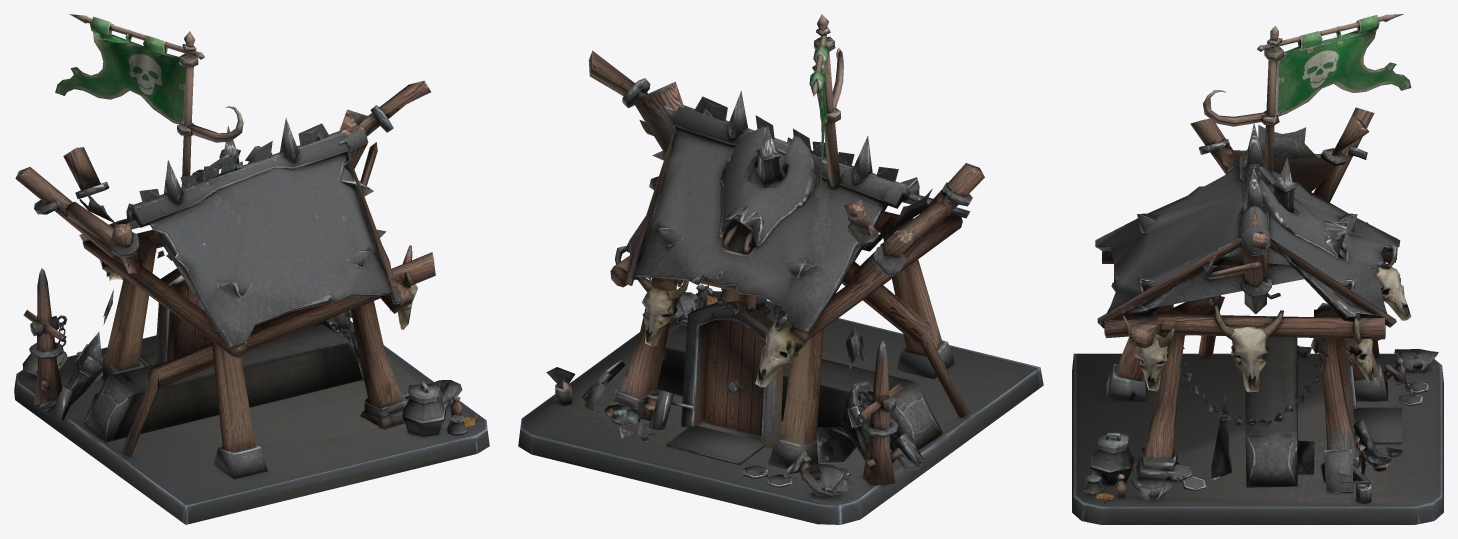
File: wyldkin_denhold.glb
The picture shows the model from 3 angles, left to right: view 1: azimuth 30°, elevation 25°; view 2: azimuth 150°, elevation 25°; view 3: azimuth 270°, elevation 25°; orthographic projection. The views are drawn at different scales.
Size of the model in its own units: 0.3336 by 0.35 by 0.2979.
1 material, 1 textured.
